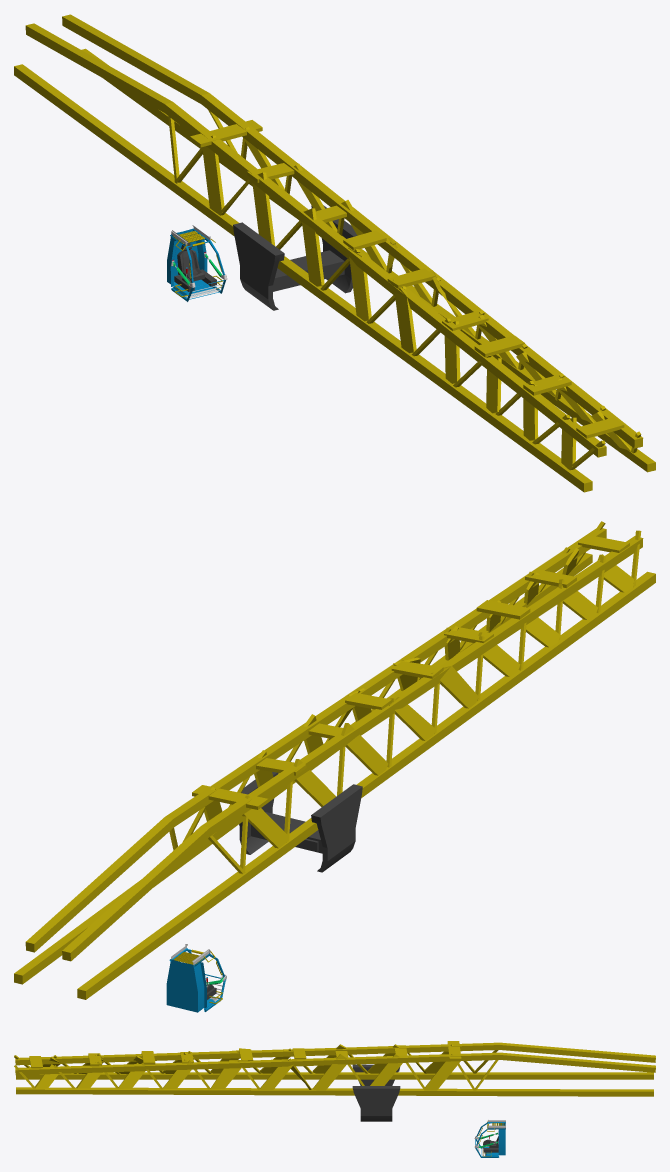
Rendered from ENV_Object_Crane_01.fbx.
3 views of the same model, one above another, from view 1: azimuth 30°, elevation 25°; view 2: azimuth 150°, elevation 25°; view 3: azimuth 270°, elevation 25° (orthographic). The views are drawn at different scales.
Parts seen in each view (by area): view 1: ENV_Object_Crane_01_Boom, ENV_Object_Crane_01_Slider, ENV_Object_Crane_01_Body; view 2: ENV_Object_Crane_01_Boom, ENV_Object_Crane_01_Slider, ENV_Object_Crane_01_Body; view 3: ENV_Object_Crane_01_Boom, ENV_Object_Crane_01_Slider, ENV_Object_Crane_01_Body.
Part boxes in pixels (x1,y1,x2,y2): ENV_Object_Crane_01_Boom: (14, 14, 655, 492); ENV_Object_Crane_01_Slider: (233, 205, 357, 310); ENV_Object_Crane_01_Body: (167, 225, 227, 301); ENV_Object_Crane_01_Boom: (14, 521, 655, 999); ENV_Object_Crane_01_Slider: (239, 772, 362, 872); ENV_Object_Crane_01_Body: (166, 944, 226, 1012); ENV_Object_Crane_01_Boom: (14, 1041, 655, 1096); ENV_Object_Crane_01_Slider: (352, 1064, 400, 1121); ENV_Object_Crane_01_Body: (474, 1120, 505, 1157).
Bounding box in the file's own units: 356 × 723 × 4026.
